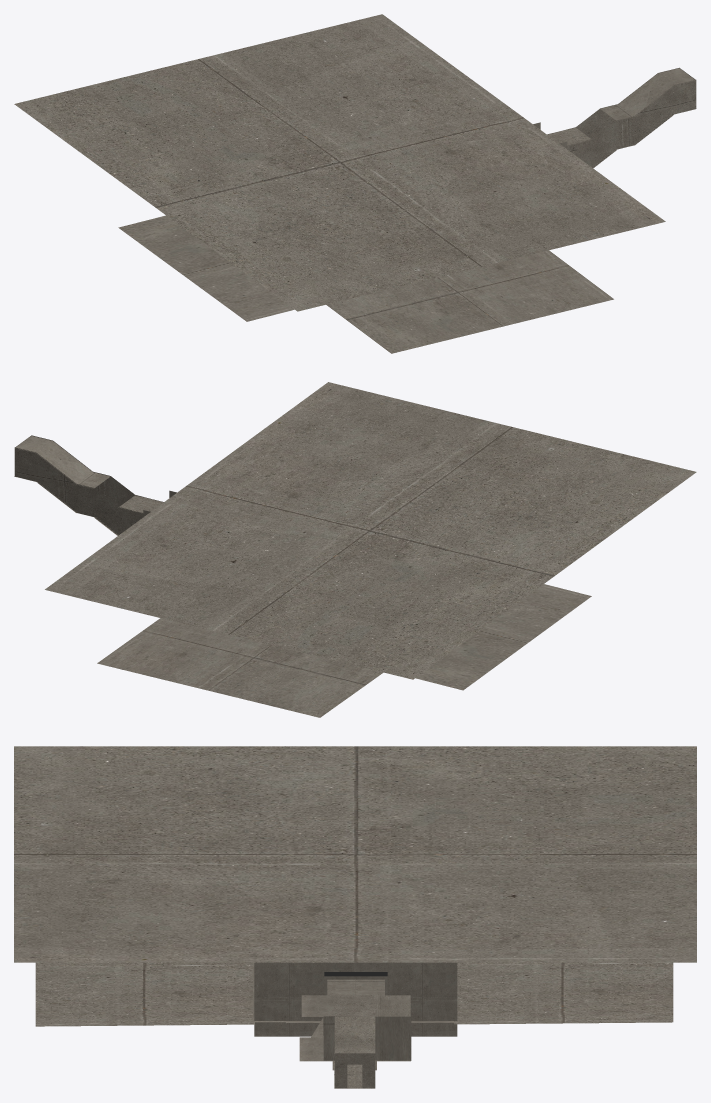
File: 3drop_gallery_v93.glb
3 views of the same model, one above another, from view 1: azimuth 30°, elevation 25°; view 2: azimuth 150°, elevation 25°; view 3: azimuth 270°, elevation 25° (orthographic). The views are drawn at different scales.
Visible parts, largest first — view 1: frameConcreteExternalTop, sideLeftPlateformConcrete_grndPhys, backPlateformConcrete_grndPhys, entranceBackWall, entranceBackCeiling; view 2: frameConcreteExternalTop, sideRightPlateformConcrete_grndPhys, backPlateformConcrete_grndPhys, entranceBackWall, entranceBackCeiling; view 3: frameConcreteExternalTop, sideLeftPlateformConcrete_grndPhys, sideRightPlateformConcrete_grndPhys, demoZoneSurroundingPlanes, entranceBackCeiling, entranceBackWall, entranceLobbyConcrete, entranceBackStairs_grndPhys, frameConcreteExternal.
Part boxes in pixels (x1=…): frameConcreteExternalTop: x1=14, y1=14, x2=665, y2=311; sideLeftPlateformConcrete_grndPhys: x1=326, y1=250, x2=613, y2=353; backPlateformConcrete_grndPhys: x1=118, y1=215, x2=294, y2=321; entranceBackWall: x1=547, y1=67, x2=696, y2=168; entranceBackCeiling: x1=547, y1=68, x2=695, y2=145; frameConcreteExternalTop: x1=45, y1=382, x2=696, y2=679; sideRightPlateformConcrete_grndPhys: x1=97, y1=618, x2=383, y2=717; backPlateformConcrete_grndPhys: x1=415, y1=584, x2=591, y2=690; entranceBackWall: x1=14, y1=435, x2=163, y2=535; entranceBackCeiling: x1=15, y1=436, x2=163, y2=512; frameConcreteExternalTop: x1=14, y1=746, x2=696, y2=962; sideLeftPlateformConcrete_grndPhys: x1=35, y1=962, x2=254, y2=1026; sideRightPlateformConcrete_grndPhys: x1=454, y1=962, x2=673, y2=1024; demoZoneSurroundingPlanes: x1=254, y1=962, x2=457, y2=1036; entranceBackCeiling: x1=301, y1=995, x2=410, y2=1053; entranceBackWall: x1=323, y1=1016, x2=411, y2=1088; entranceLobbyConcrete: x1=323, y1=976, x2=387, y2=1035; entranceBackStairs_grndPhys: x1=299, y1=1037, x2=410, y2=1088; frameConcreteExternal: x1=324, y1=962, x2=387, y2=971.
Size of the model in its own units: 271 by 43.67 by 250.
Materials: 4 (4 with a texture image).
